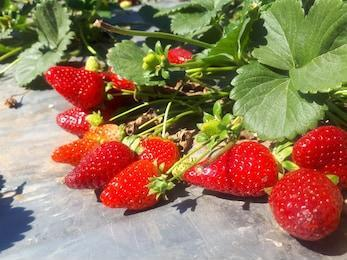Fresa: (181, 138, 283, 205), (267, 165, 346, 245), (63, 138, 140, 196), (99, 158, 172, 214), (41, 61, 110, 112)
